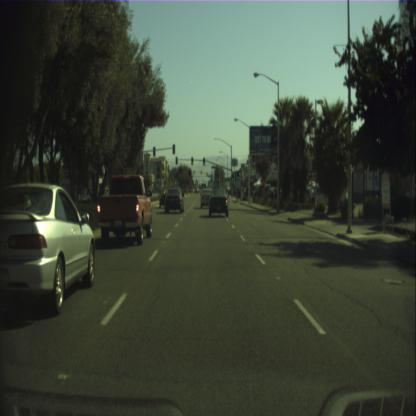Green: (230, 174, 234, 181), (236, 172, 238, 180), (191, 156, 193, 164), (202, 158, 204, 165)
Red: (200, 170, 202, 173)
off: (172, 144, 175, 154), (152, 146, 155, 155), (175, 156, 177, 164)
